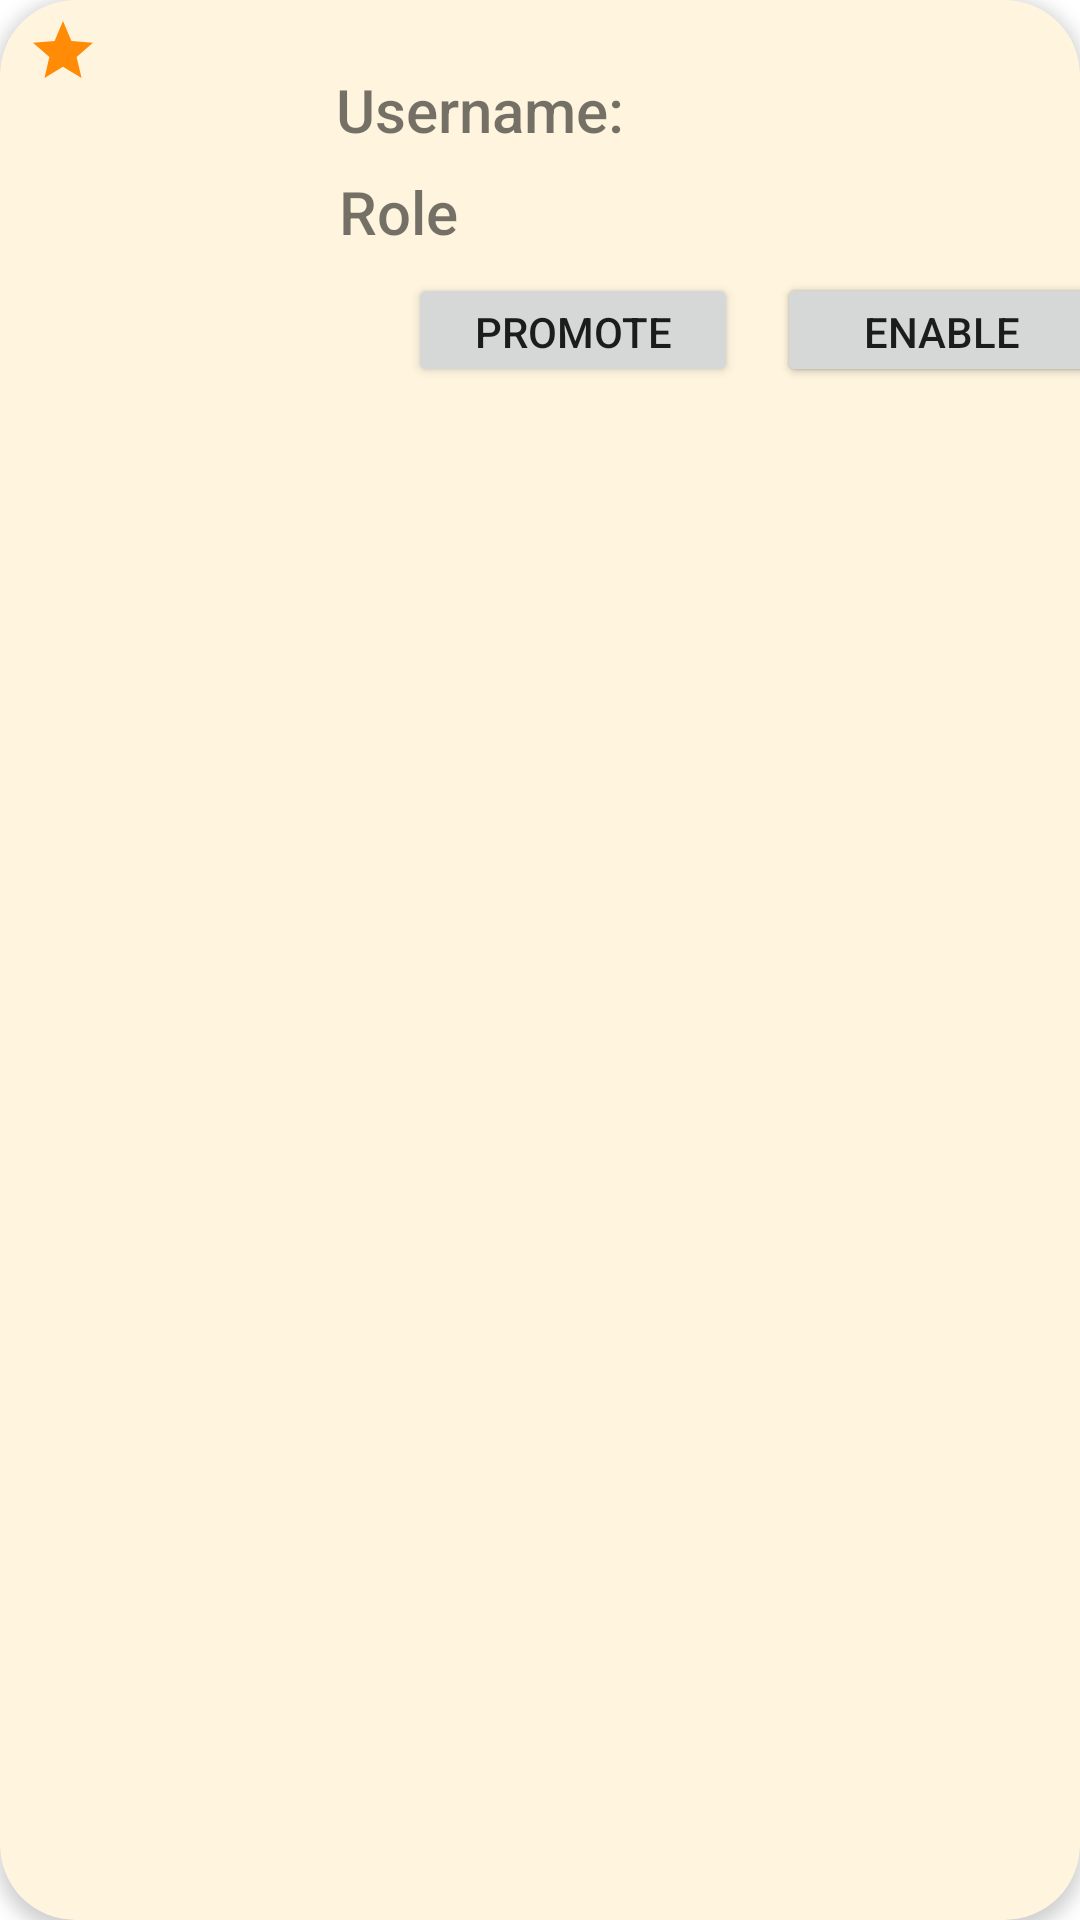

Screen size 1080px×1920px. Icon name, then its center in pixels as (x,y):
star: (63,49)
